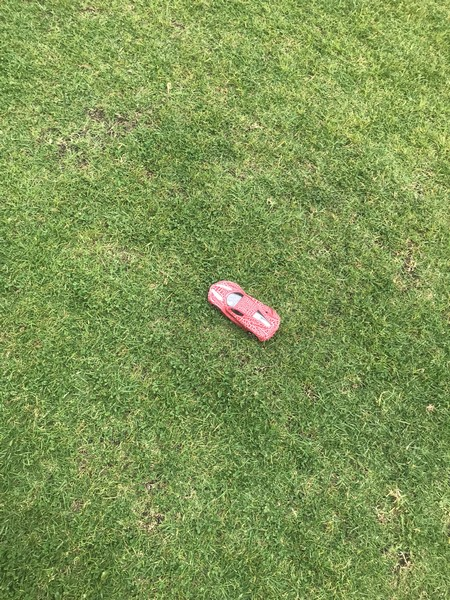RC: (206, 278, 282, 346)
